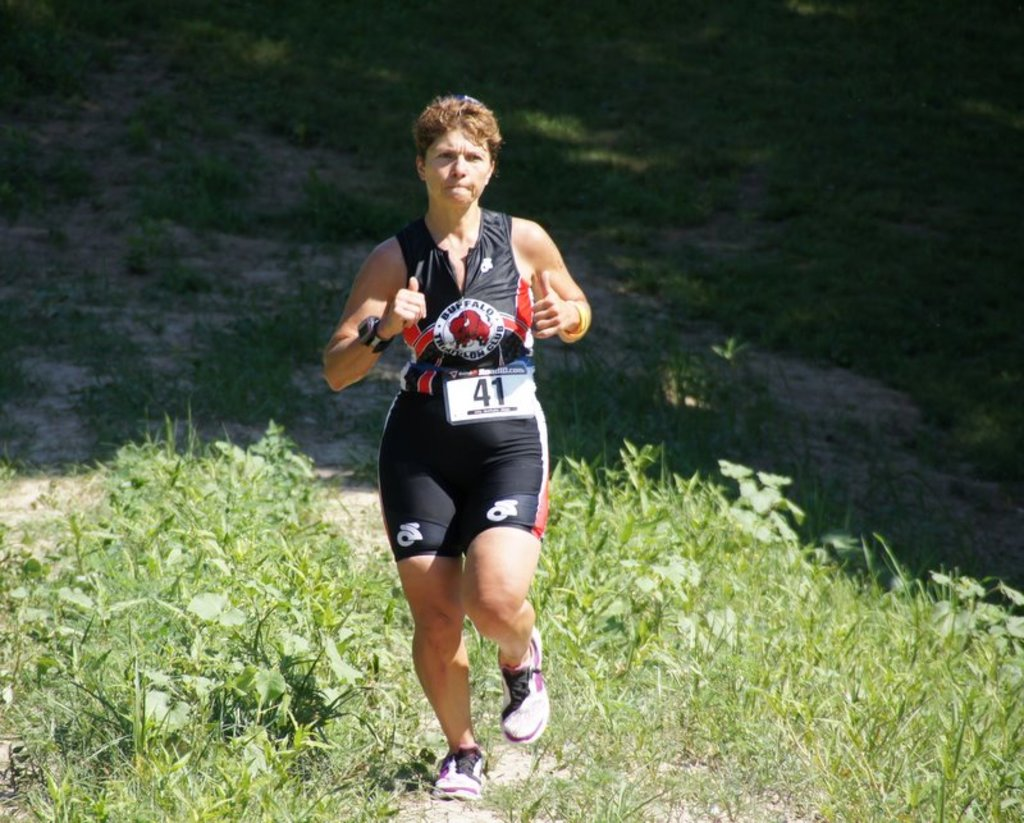Person: (320, 95, 593, 802)
